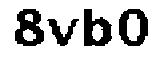0: (116, 6, 156, 49)
8: (11, 3, 47, 51)
b: (80, 6, 111, 51)
v: (47, 13, 77, 49)
